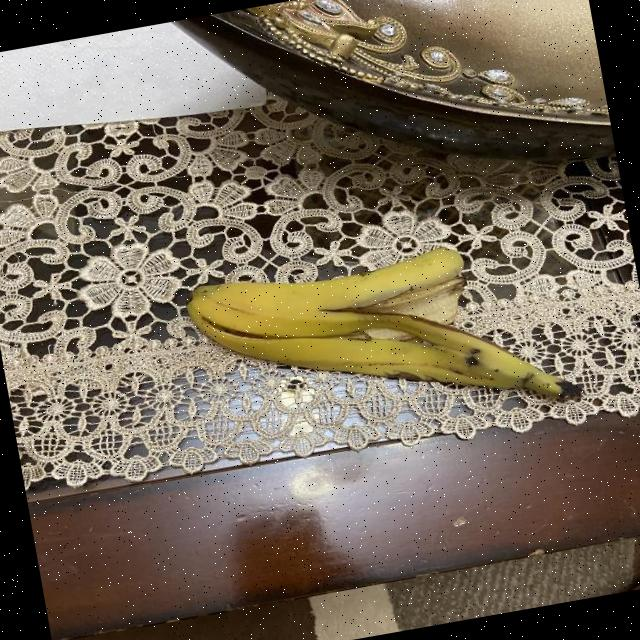banana-peel: (181, 221, 579, 461)
